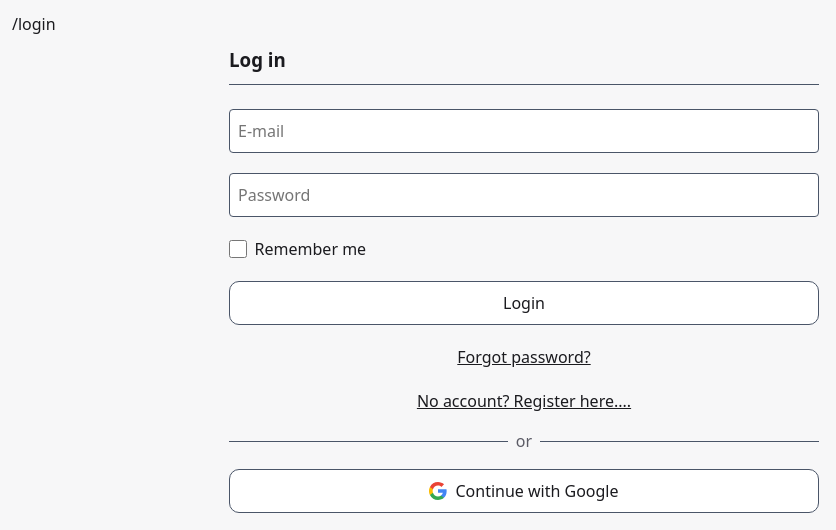
Test: LoginPage › returns to the location the auth guard blocked once login succeeds
Type "ada@example.com" into the field labelled "E-mail". click: (524, 131)
box: [229, 109, 819, 153]
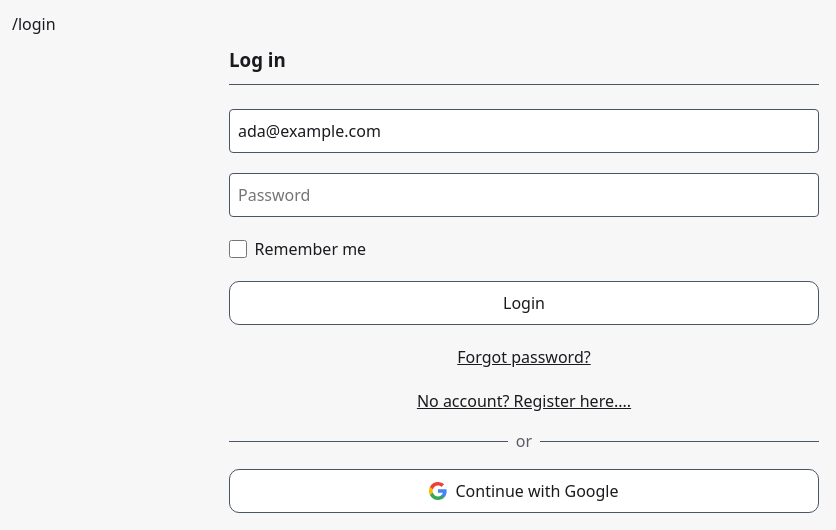
Type "Password1" into the password field labelled "Password". click: (524, 195)
box: [229, 173, 819, 217]
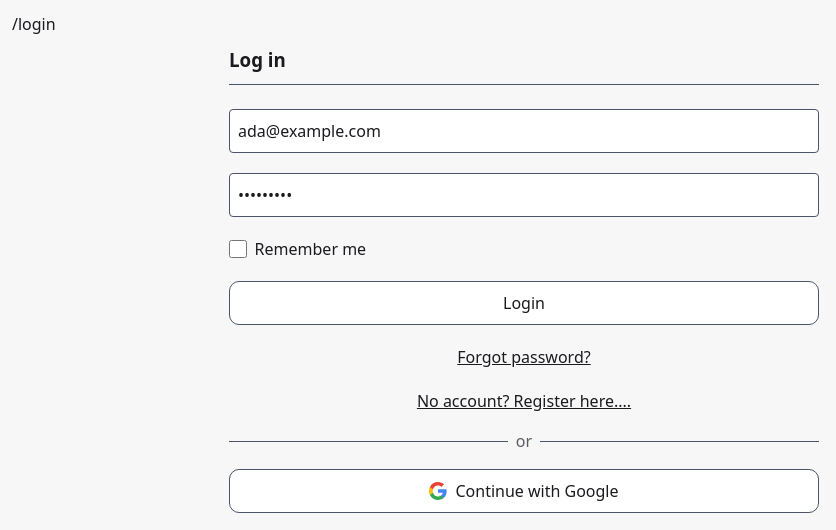
Click the button "Login". click: (524, 303)
box: [229, 281, 819, 325]
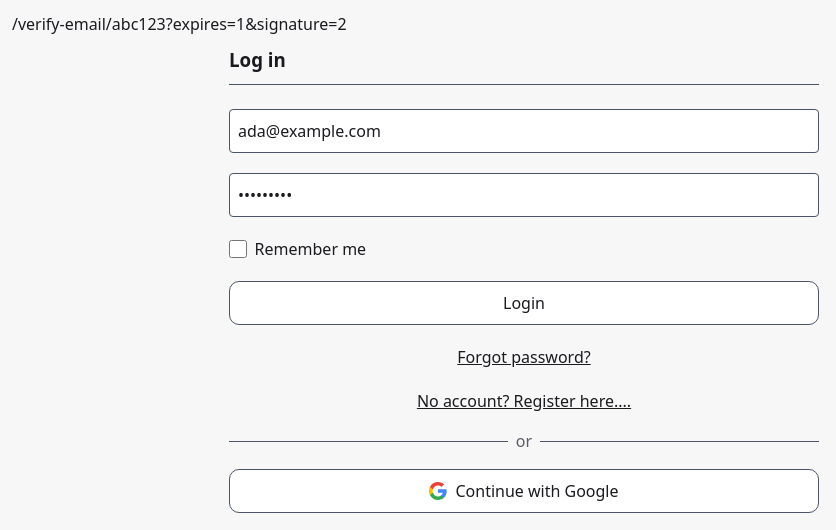
Expected: the text with test id "location" reads "/verify-email/abc123?expires=1&signature=2", [12, 13, 347, 35]
